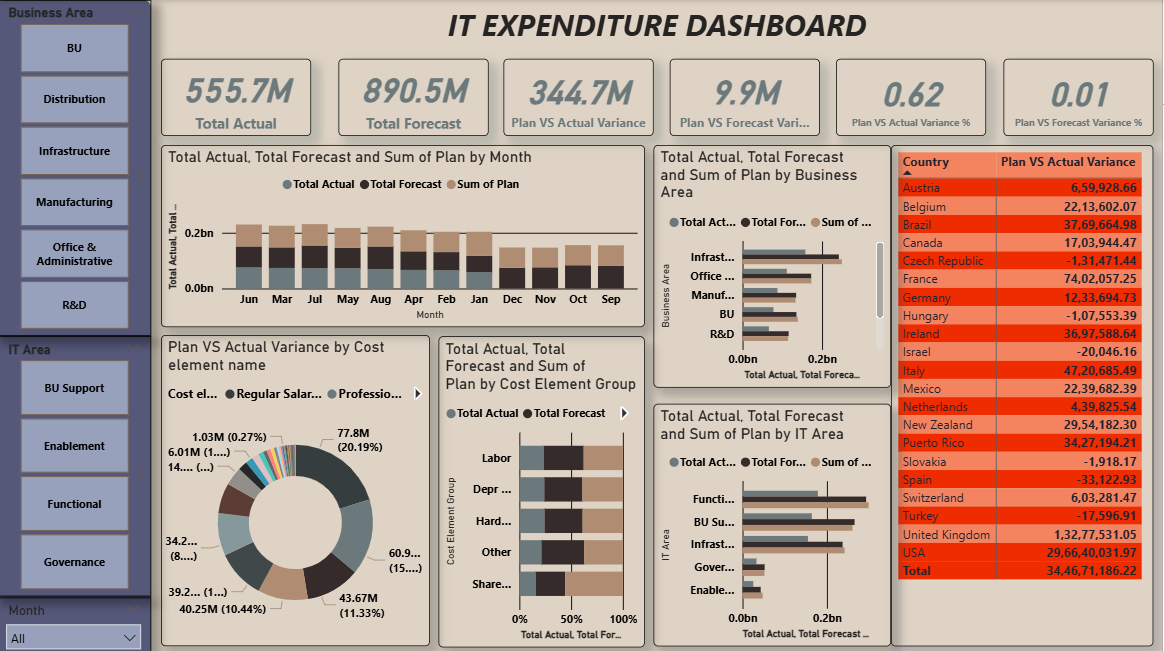

Layout of this report page (visuals, bound fields, positions):
{"tool":"powerbi","page":{"name":"Page 1","canvas":[1280,720],"ordinal":0},"visuals":[{"type":"shape","box":[0,0,170.2,720.4],"z":0},{"type":"card","fields":{"Values":["Measures (2).Total Actual"]},"box":[181.1,64.5,164.7,85.1],"z":1000},{"type":"card","fields":{"Values":["Measures (2).Plan VS Forecast Variance %"]},"box":[1106,64.5,164.7,85.1],"z":2000},{"type":"card","fields":{"Values":["Measures (2).Total Forecast"]},"box":[376,64.5,164.7,85.1],"z":3000},{"type":"card","fields":{"Values":["Measures (2).Plan VS Forecast Variance"]},"box":[739.6,64.5,164.7,85.1],"z":4000},{"type":"card","fields":{"Values":["Measures (2).Plan VS Actual Variance"]},"box":[557.1,64.5,164.7,85.1],"z":5000},{"type":"card","fields":{"Values":["Measures (2).Plan VS Actual Variance %"]},"box":[922.1,64.5,164.7,85.1],"z":6000},{"type":"pivotTable","fields":{"Rows":["Data.Country"],"Values":["Measures (2).Plan VS Actual Variance"]},"box":[982.5,159.2,288.2,550.3],"z":7000},{"type":"columnChart","fields":{"Category":["Data.Month"],"Y":["Measures (2).Total Actual","Measures (2).Total Forecast","Sum(Data.Plan)"]},"box":[181.1,159.2,531,200.3],"z":8000},{"type":"donutChart","fields":{"Y":["Measures (2).Plan VS Actual Variance"],"Category":["Data.Cost element name"]},"box":[181.1,367.8,295,341.7],"z":9000},{"type":"hundredPercentStackedBarChart","fields":{"Y":["Measures (2).Total Actual","Measures (2).Total Forecast","Sum(Data.Plan)"],"Category":["Data.Cost Element Group"]},"box":[485.8,369.1,226.4,341.7],"z":10000},{"type":"clusteredBarChart","fields":{"Y":["Measures (2).Total Actual","Measures (2).Total Forecast","Sum(Data.Plan)"],"Category":["Data.Business Area"]},"box":[721.8,159.2,260.7,266.2],"z":11000},{"type":"clusteredBarChart","fields":{"Y":["Measures (2).Total Actual","Measures (2).Total Forecast","Sum(Data.Plan)"],"Category":["Data.IT Area"]},"box":[721.8,443.2,260.7,266.2],"z":12000},{"type":"slicer","fields":{"Values":["Data.Business Area"]},"box":[0,0,170.2,369.1],"z":13000},{"type":"slicer","fields":{"Values":["Data.IT Area"]},"box":[0,369.1,170.2,285.4],"z":14000},{"type":"slicer","fields":{"Values":["Data.Month"]},"box":[0,655.9,170.2,64.5],"z":15000},{"type":"textbox","box":[181.1,0,1089.5,64.5],"z":15001}]}

Visuals, with their boxes in screenshot pixels (x1, y1, x2, y2), scaled from the page's 1280x720 canvas onto the 1164x651 screenshot:
shape: x1=0 y1=0 x2=155 y2=650
card - Measures (2).Total Actual: x1=165 y1=58 x2=314 y2=135
card - Measures (2).Plan VS Forecast Variance %: x1=1006 y1=58 x2=1156 y2=135
card - Measures (2).Total Forecast: x1=342 y1=58 x2=492 y2=135
card - Measures (2).Plan VS Forecast Variance: x1=673 y1=58 x2=822 y2=135
card - Measures (2).Plan VS Actual Variance: x1=507 y1=58 x2=656 y2=135
card - Measures (2).Plan VS Actual Variance %: x1=839 y1=58 x2=988 y2=135
pivotTable - Data.Country x Measures (2).Plan VS Actual Variance: x1=893 y1=144 x2=1156 y2=642
columnChart - Data.Month x Measures (2).Total Actual: x1=165 y1=144 x2=648 y2=325
donutChart - Measures (2).Plan VS Actual Variance x Data.Cost element name: x1=165 y1=333 x2=433 y2=642
hundredPercentStackedBarChart - Measures (2).Total Actual x Measures (2).Total Forecast: x1=442 y1=334 x2=648 y2=643
clusteredBarChart - Measures (2).Total Actual x Measures (2).Total Forecast: x1=656 y1=144 x2=893 y2=385
clusteredBarChart - Measures (2).Total Actual x Measures (2).Total Forecast: x1=656 y1=401 x2=893 y2=641
slicer - Data.Business Area: x1=0 y1=0 x2=155 y2=334
slicer - Data.IT Area: x1=0 y1=334 x2=155 y2=592
slicer - Data.Month: x1=0 y1=593 x2=155 y2=650
textbox: x1=165 y1=0 x2=1155 y2=58
